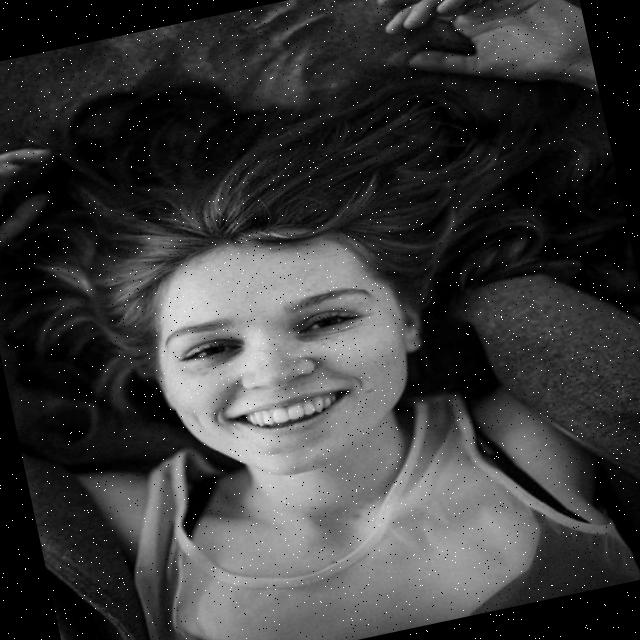Happiness: (133, 203, 434, 501)
